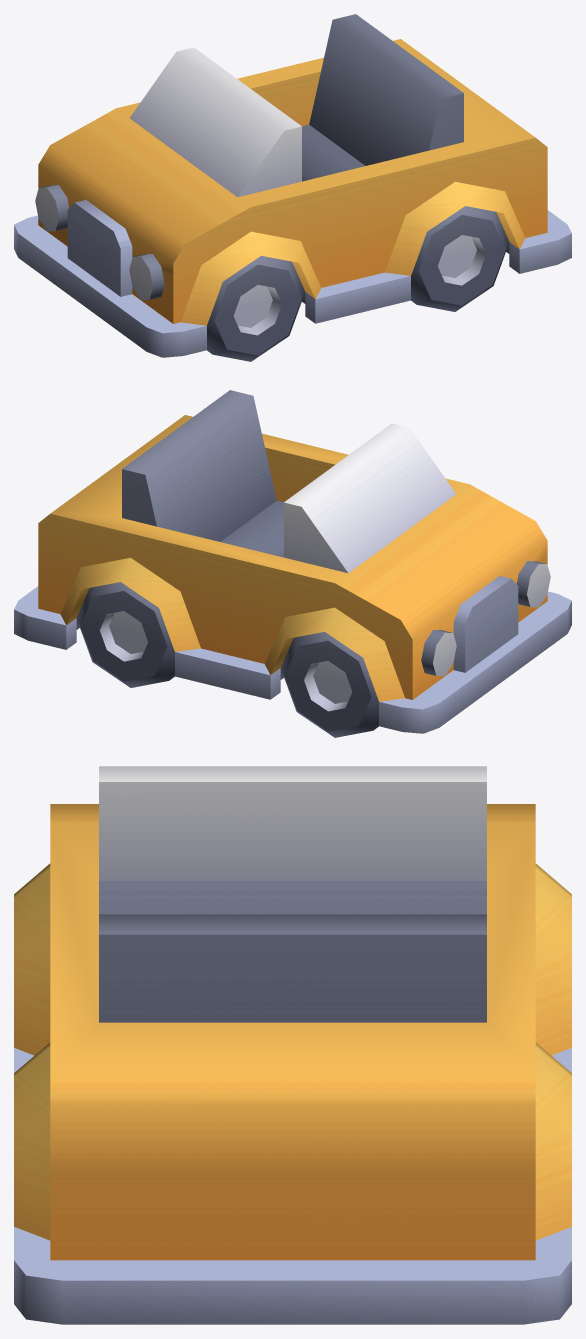
The model's file is vehicle-convertible.glb.
The picture shows the model from 3 angles, top to bottom: view 1: azimuth 30°, elevation 25°; view 2: azimuth 150°, elevation 25°; view 3: azimuth 270°, elevation 25°; orthographic projection. The views are drawn at different scales.
Parts seen in each view (by area): view 1: vehicle-convertible-col; view 2: vehicle-convertible-col; view 3: vehicle-convertible-col.
Part boxes in pixels (x1,y1,x2,y2): vehicle-convertible-col: (14, 14, 571, 361); vehicle-convertible-col: (14, 390, 571, 737); vehicle-convertible-col: (14, 766, 571, 1324).
Bounding box in the file's own units: 1.42 × 0.677 × 0.9085.
1 material, 1 textured.
